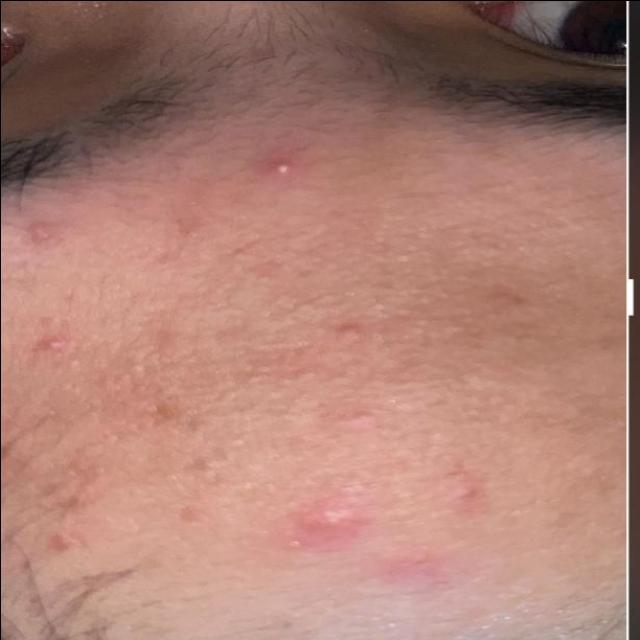papule: (243, 435, 538, 617)
pustule: (249, 147, 300, 189), (29, 330, 70, 358)
